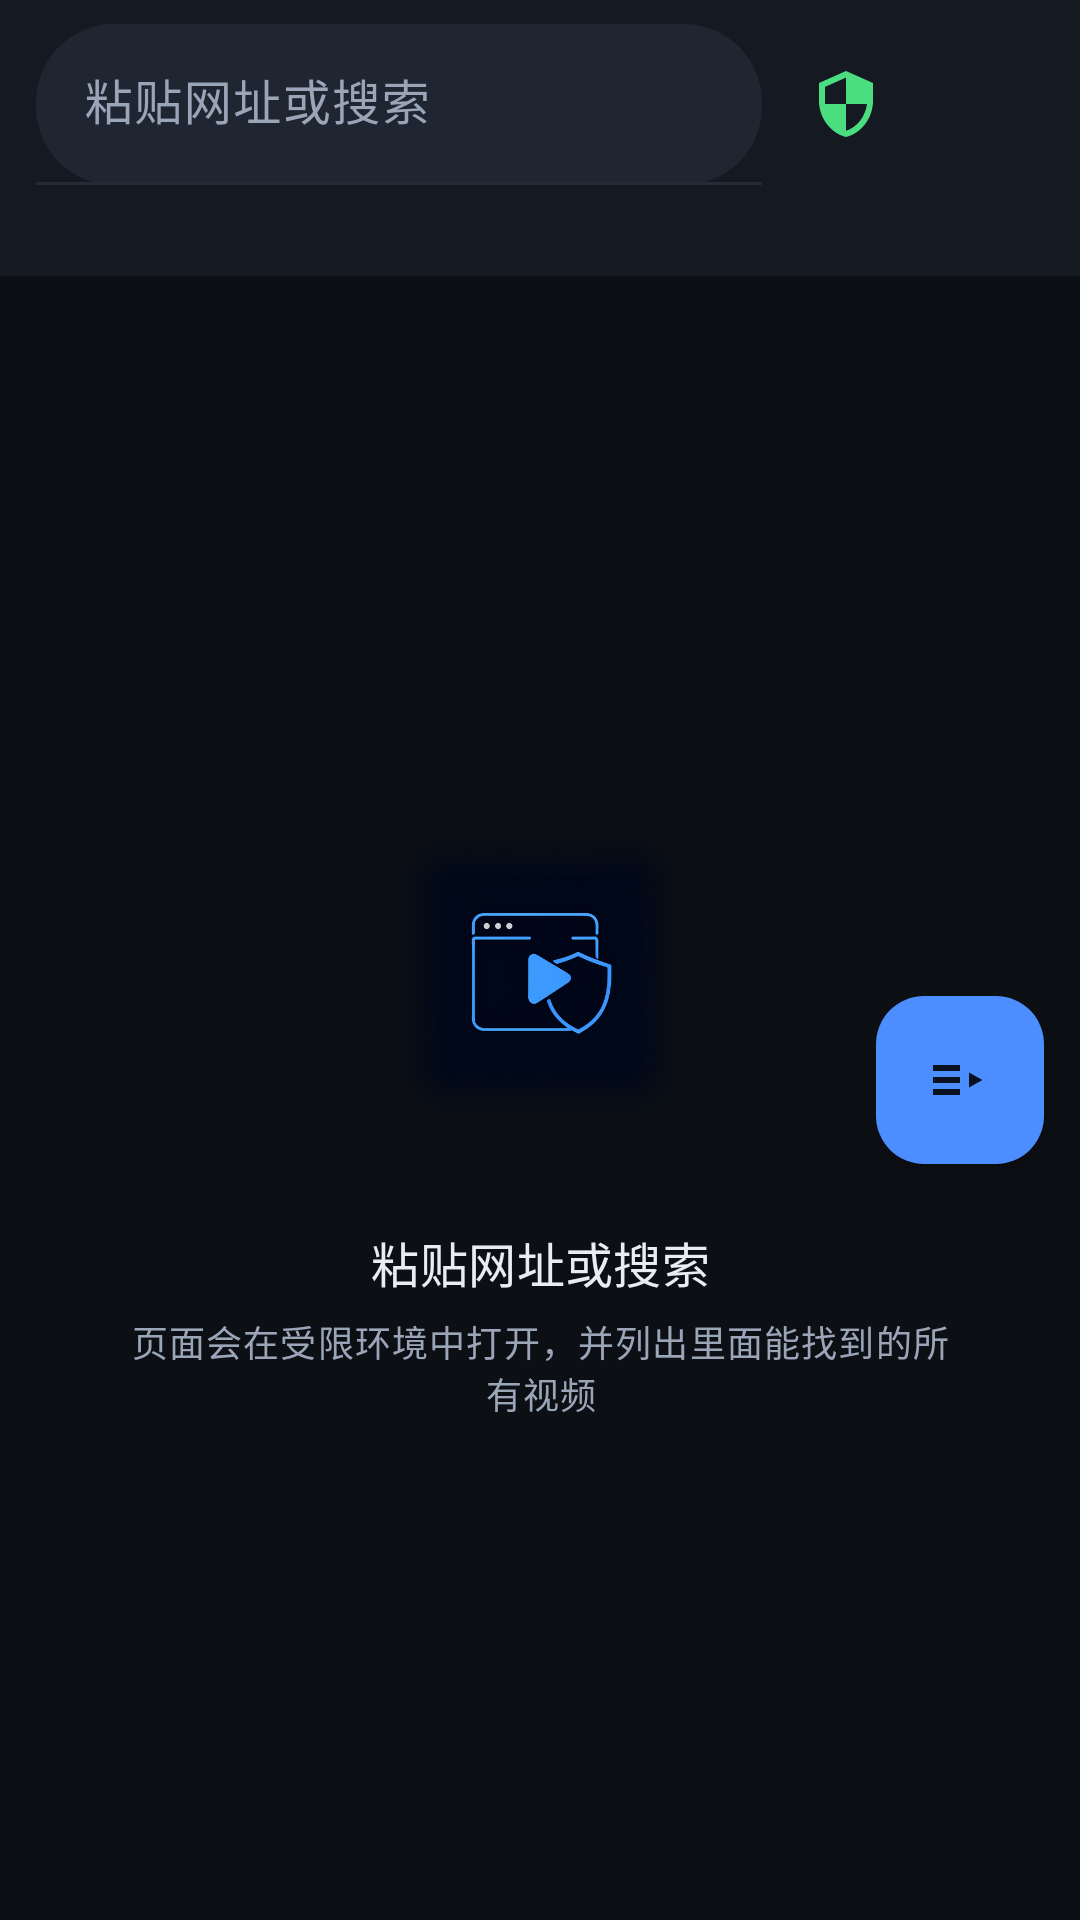

Icons on this 1080px x 1920px Android screen, each with its box as [left=x1, top=y1, right=x2, bottom=y2]:
打开选集: [left=876, top=996, right=1044, bottom=1164]
防护: [left=819, top=71, right=873, bottom=137]
